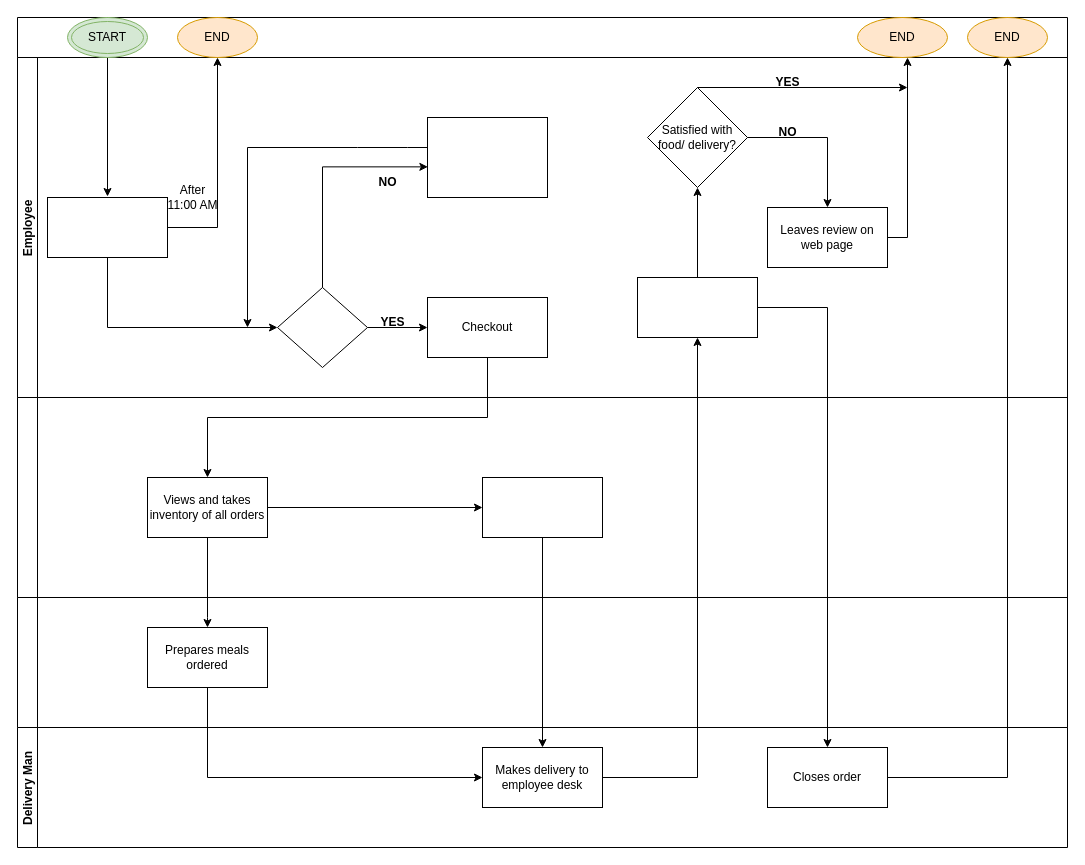
Some shapes in this 1085 by 865 pixel diagram are drawn without their labels. The shapes that lost their labels are listed below. From the top down, each one's box as (x1, y1, x2, y2) in pixels, then its label:
(426, 116, 548, 198): Edit order
(46, 196, 168, 258): Views menu and creates order
(276, 286, 368, 368): Satisfied with order?
(636, 276, 758, 338): Receives food delivered
(16, 396, 1068, 598): Canteen Manager
(482, 476, 602, 538): Requests Delivery
(16, 596, 1068, 728): Cook
